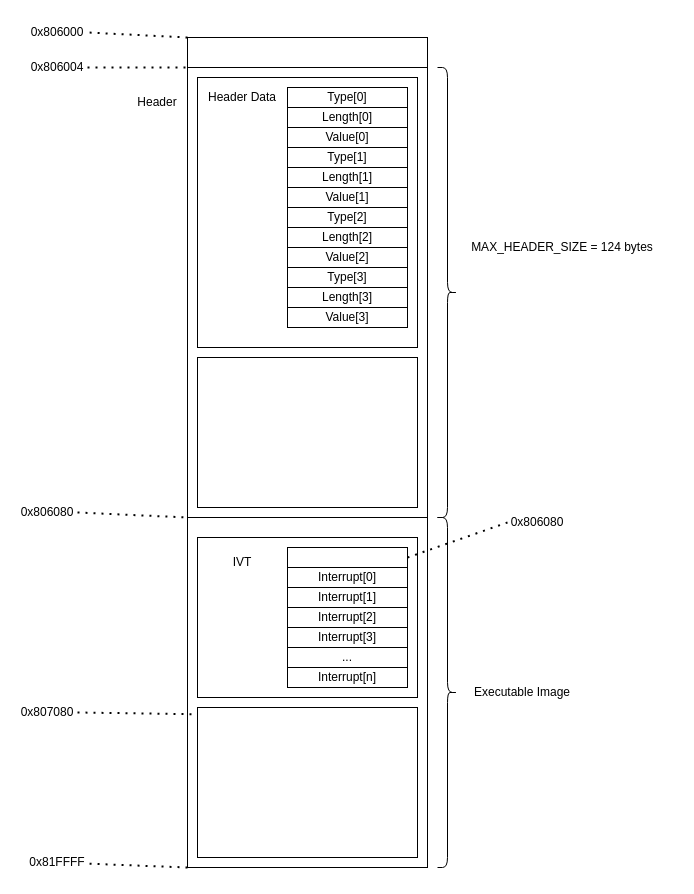
Some shapes in this 694 by 894 pixel diagram are drawn without their labels. The shapes that lost their labels are listed below. From the top down, each one's centre as x and y in pixels, then its label:
At pixel 307 52: "CRC32 of the header".
At pixel 307 432: "Extra unused header space - padded with 0".
At pixel 347 557: "Reset".
At pixel 307 782: "Code".
